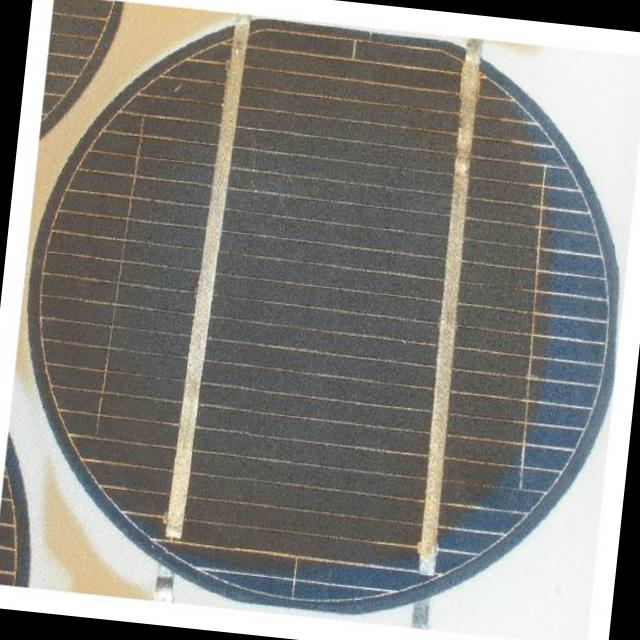faulty: (0, 2, 585, 640)
